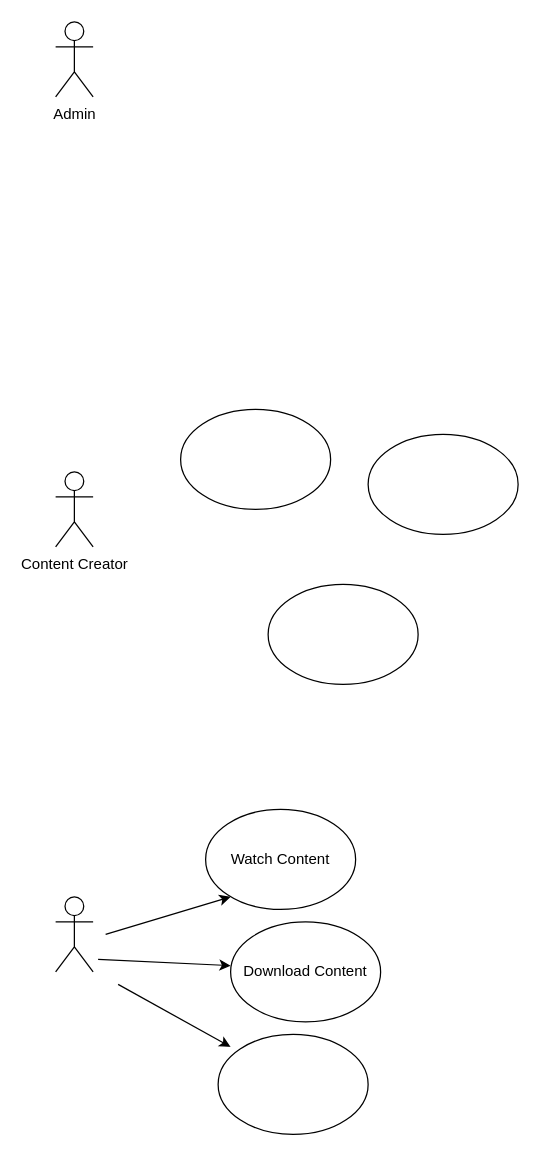
This 540x1156 diagram has some shape labels left out. The shapes that lost their labels are listed below. From the top down, each one's centre as x and y in pixels, then its label:
At point 73,934: "Users".
At point 292,1083: "Manage Account Settings".
